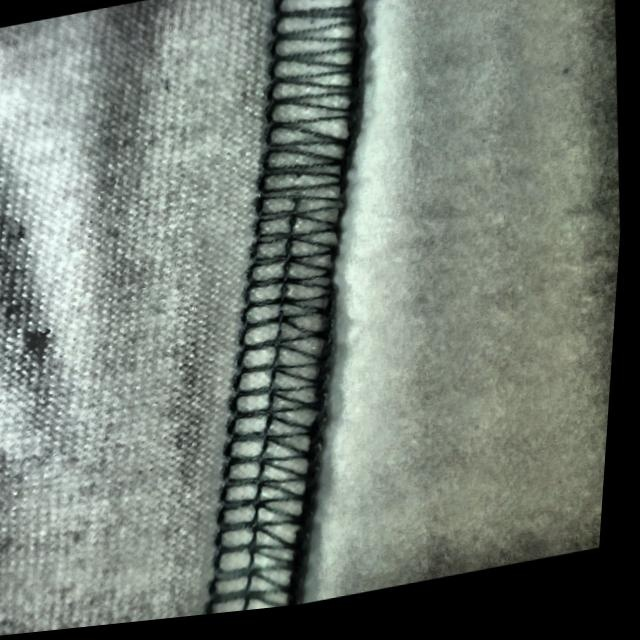Stitch: (184, 0, 414, 430)
